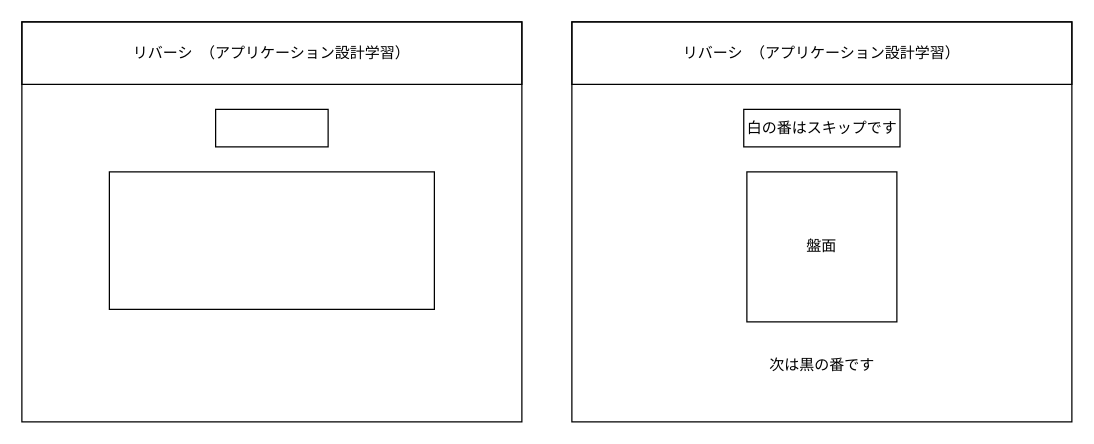
This 1094x444 diagram has some shape labels left out. Here are the shapes that lost their labels. From the top down, the centre of each, then its label:
pixel 271 127: 対戦する
pixel 271 240: 過去の対戦結果
